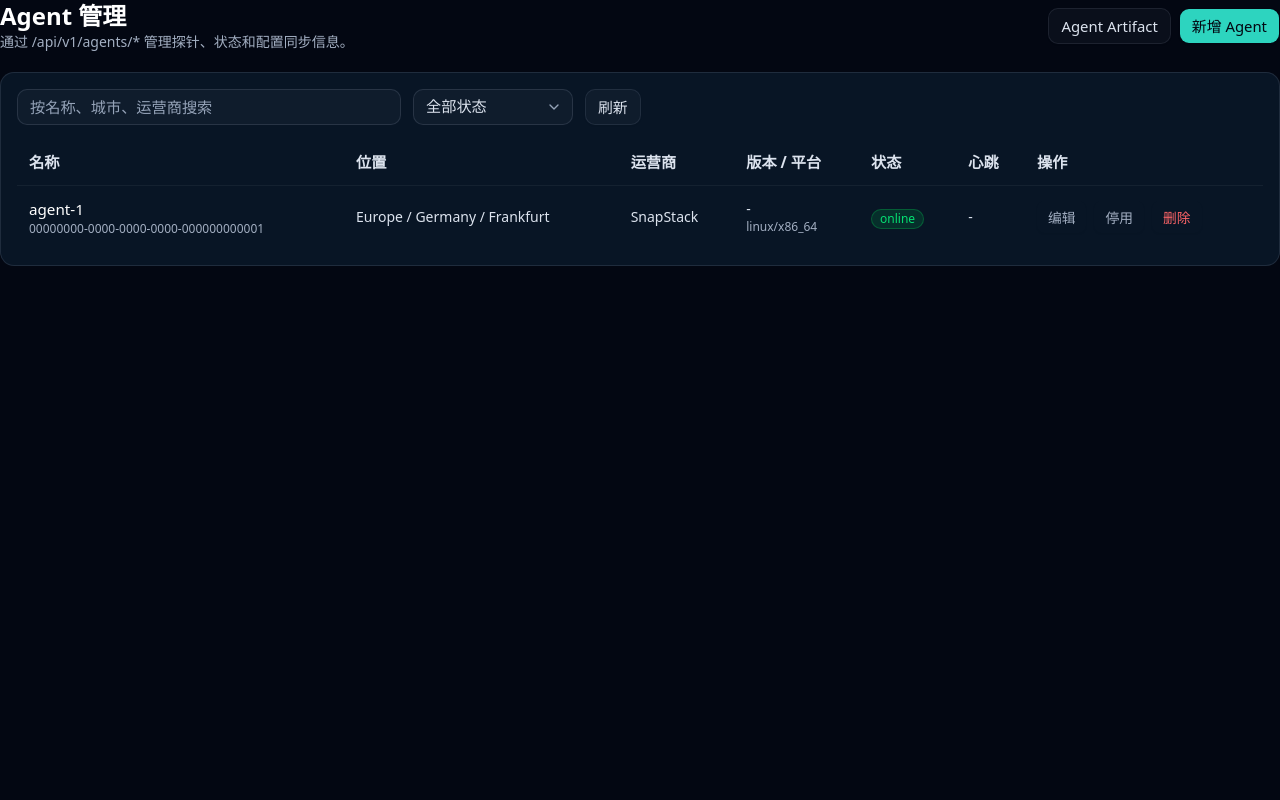
Test: AgentsPage › shows human-readable IP version labels in the agent form select
Click the button "新增 Agent". click: (1229, 26)
box: [1179,8,1279,44]
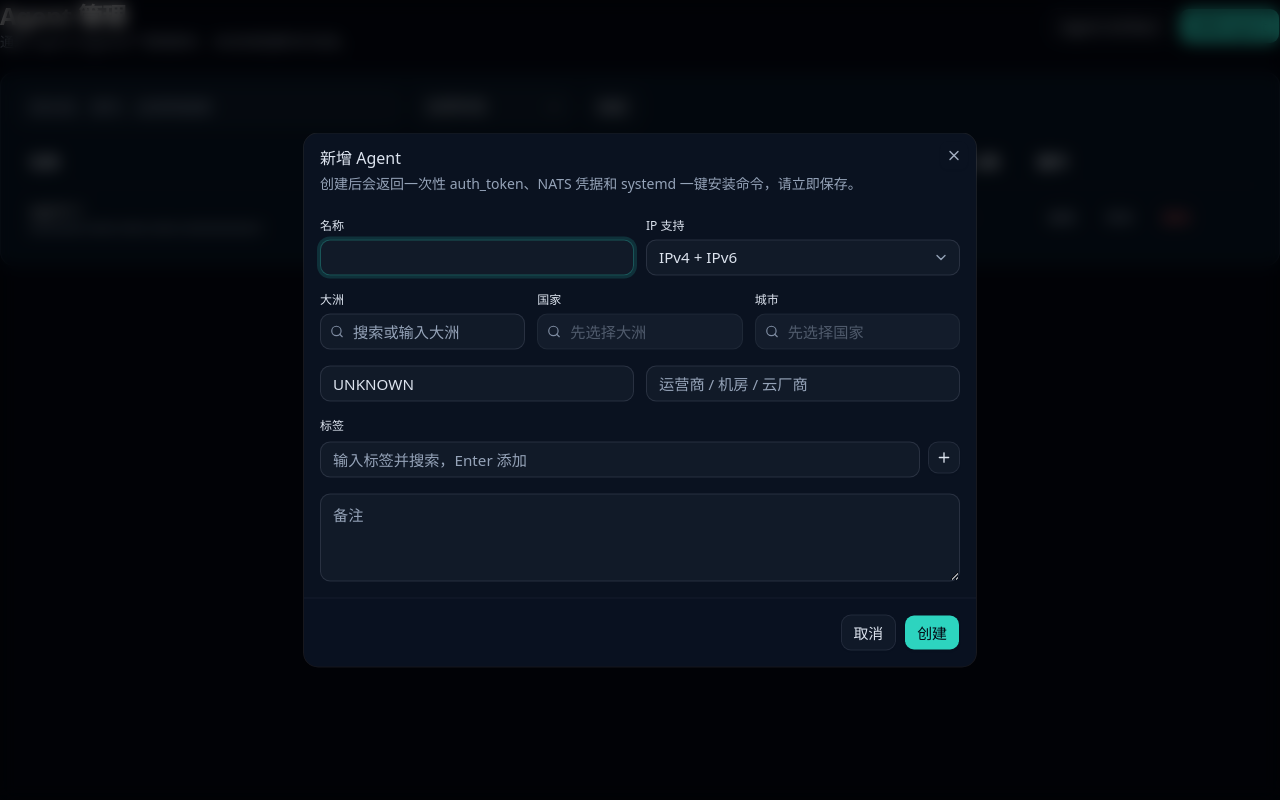
Expected: the dropdown named "IP 支持" shows "IPv4 + IPv6"
Click the dropdown named "IP 支持". click: (698, 257)
box: [646,240,960,276]
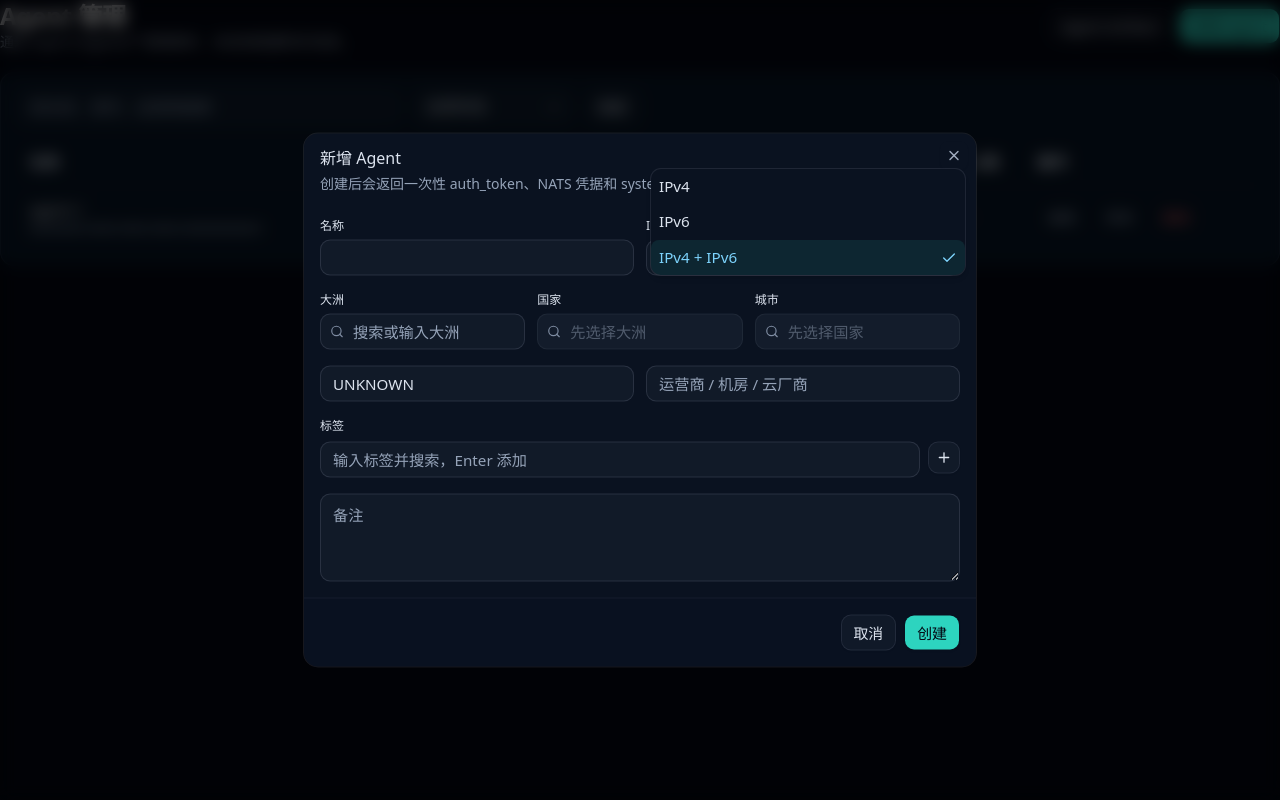
Click the option "IPv4". click: (674, 186)
box: [659,176,690,196]
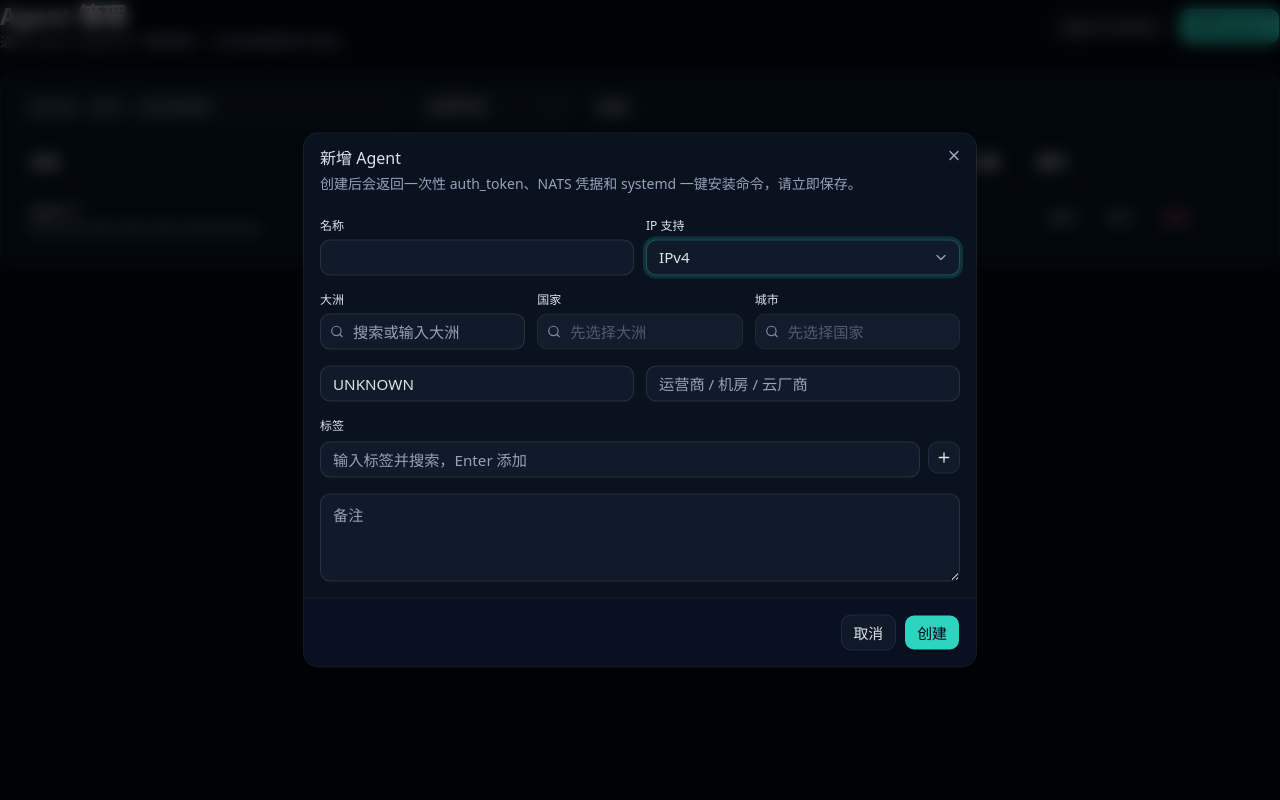
Expected: the dropdown named "IP 支持" does not show "4", [646,240,960,276]
Expected: the dropdown named "IP 支持" shows "IPv4", [646,240,960,276]
